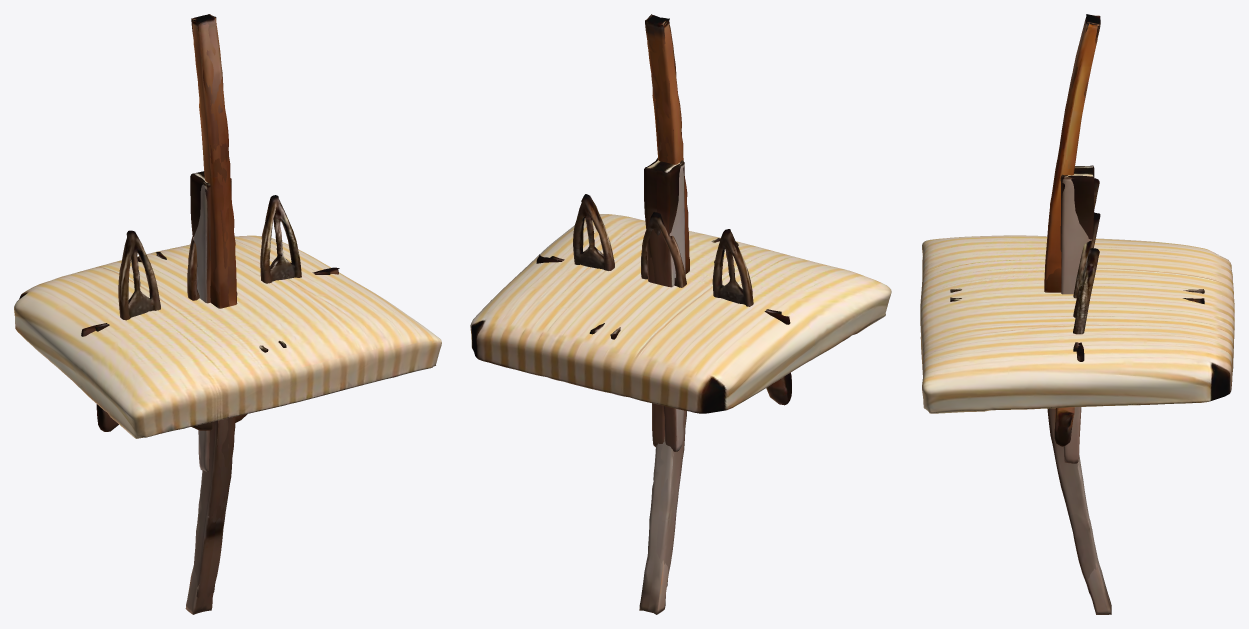
3 renders of one model, left to right at view 1: azimuth 30°, elevation 25°; view 2: azimuth 150°, elevation 25°; view 3: azimuth 270°, elevation 25°, orthographic.
Parts seen in each view (by area): view 1: root.0, root.2, root.3, root.1, root.4, root.6; view 2: root.0, root.1, root.2, root.3, root.4, root.6; view 3: root.0, root.3, root.2, root.6, root.1, root.4.
Boxes of the visible parts, box(x1,y1,x2,y2) form: root.0: box(14, 235, 441, 438); root.2: box(185, 15, 237, 614); root.3: box(191, 14, 236, 611); root.1: box(96, 195, 301, 431); root.4: box(193, 171, 231, 472); root.6: box(190, 173, 231, 260); root.0: box(470, 213, 891, 413); root.1: box(573, 194, 791, 405); root.2: box(645, 14, 689, 614); root.3: box(639, 14, 689, 612); root.4: box(644, 159, 685, 451); root.6: box(646, 157, 684, 447); root.0: box(920, 235, 1234, 413); root.3: box(1044, 14, 1111, 614); root.2: box(1044, 15, 1111, 608); root.6: box(1061, 165, 1094, 463); root.1: box(1054, 178, 1100, 446); root.4: box(1060, 166, 1094, 251).
Size of the model in its own units: 17686 by 32558 by 15676.
1 material, 1 textured.
